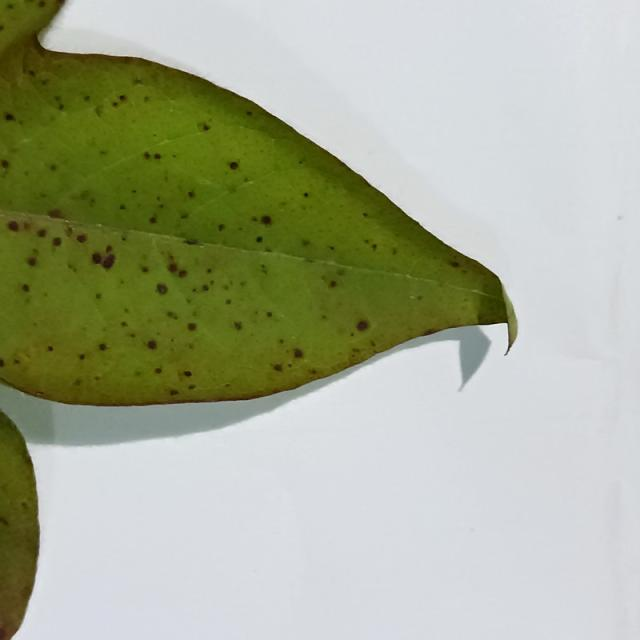Bacterial_Blight: (57, 99, 103, 135), (354, 324, 390, 357), (91, 248, 117, 270), (258, 305, 288, 324), (107, 93, 132, 110), (199, 116, 215, 138), (13, 349, 32, 366), (321, 273, 341, 289), (27, 249, 40, 269), (78, 189, 92, 202), (47, 208, 62, 219), (183, 238, 202, 246), (7, 220, 19, 232), (1, 623, 10, 639), (167, 261, 178, 274), (91, 252, 102, 265), (356, 320, 369, 331), (156, 283, 167, 295), (94, 105, 104, 117), (260, 215, 272, 225), (423, 328, 438, 336), (54, 96, 64, 107), (76, 233, 87, 243), (166, 311, 178, 320), (65, 226, 74, 238), (52, 237, 62, 247), (293, 348, 303, 358), (147, 340, 157, 350), (336, 268, 346, 277), (229, 161, 239, 170), (187, 322, 197, 331), (37, 229, 47, 238), (0, 516, 9, 526), (178, 269, 187, 278), (301, 239, 311, 247), (5, 113, 15, 121), (260, 264, 268, 274), (1, 159, 9, 169), (273, 364, 283, 372), (351, 347, 361, 355), (1, 632, 11, 640), (305, 258, 318, 264), (449, 261, 460, 268), (20, 501, 28, 510), (22, 283, 30, 292), (234, 321, 242, 330), (169, 389, 179, 396), (187, 190, 195, 198), (149, 216, 157, 224), (99, 343, 107, 351), (105, 245, 113, 253), (218, 223, 225, 232), (144, 151, 151, 160), (38, 1, 47, 8), (183, 370, 192, 377), (56, 0, 66, 6), (153, 153, 161, 160), (255, 236, 263, 243), (141, 266, 149, 273), (73, 379, 81, 386), (28, 69, 36, 76), (121, 234, 128, 242), (310, 368, 318, 375), (616, 214, 624, 221), (391, 248, 398, 255), (50, 164, 57, 171), (83, 95, 90, 102), (202, 284, 209, 291), (155, 367, 162, 374), (47, 345, 54, 352), (266, 311, 273, 318), (180, 213, 188, 219), (6, 4, 14, 10), (188, 384, 196, 390), (35, 390, 44, 395), (119, 204, 126, 210), (371, 243, 377, 250), (119, 95, 126, 101), (246, 110, 253, 116), (95, 293, 102, 299), (225, 299, 232, 305), (121, 321, 128, 327), (416, 294, 423, 300), (78, 354, 85, 360), (14, 358, 20, 365), (0, 359, 5, 367), (144, 96, 150, 102), (303, 192, 309, 198), (206, 268, 212, 274), (321, 314, 327, 320), (99, 150, 106, 155), (362, 212, 368, 217), (329, 246, 334, 251), (279, 339, 284, 344), (224, 383, 230, 387)
Cotton: (0, 17, 516, 405)
